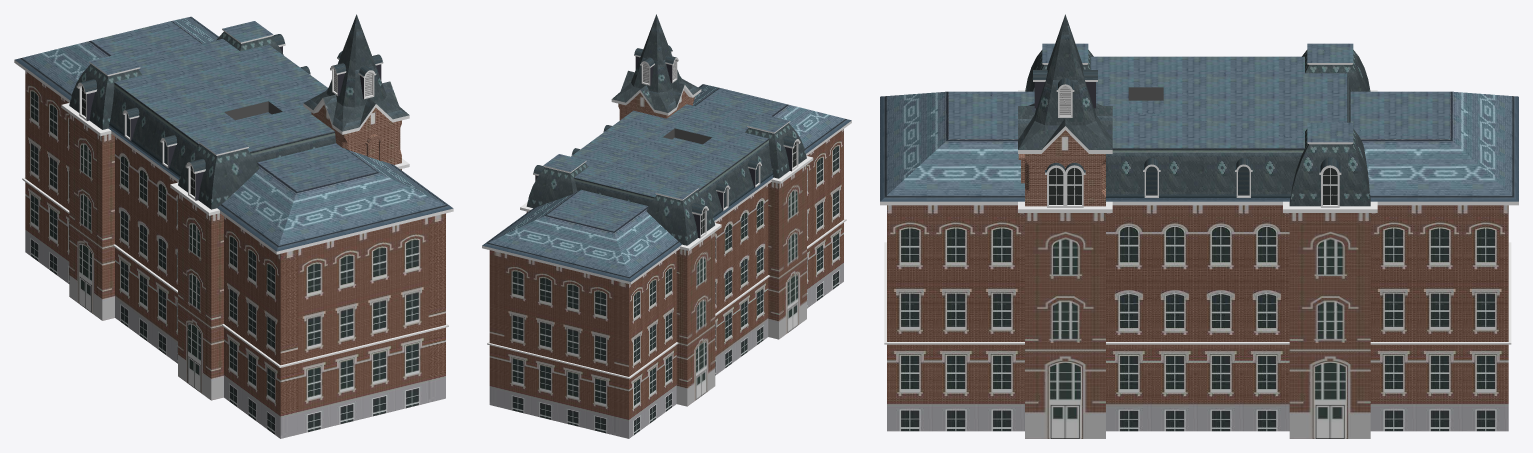
The model's file is UNIV.fbx.
The picture shows the model from 3 angles, left to right: view 1: azimuth 30°, elevation 25°; view 2: azimuth 150°, elevation 25°; view 3: azimuth 270°, elevation 25°; orthographic projection. The views are drawn at different scales.
Visible parts, largest first — view 1: Long_Roof1, Middle_Roof1, Tower_Walls2, Tower_Walls1, Steeple1, Wall_2_12, Wall_2_13, Wall_2_14, Wall_2_19, Cupola1, Wall_2_10, Wall_2_9 (+16 smaller); view 2: Long_Roof1, Middle_Roof1, Tower_Walls2, Tower_Walls1, Wall_2_6, Wall_2_4, Wall_2_5, Wall_2_7, Steeple1, Cupola2, Middle_Wall1, Wall_2_1 (+15 smaller); view 3: Long_Roof1, Middle_Roof1, Tower_Walls4, Tower_Walls3, Wall_2_15, Wall_2_16, Wall_2_18, Middle_Wall6, Middle_Wall7, Wall_2_17, Wall_2_20, Middle_Wall8 (+13 smaller).
Part boxes in pixels (<box>): Long_Roof1: <box>14,16,453,254</box>; Middle_Roof1: <box>109,39,335,177</box>; Tower_Walls2: <box>69,114,114,320</box>; Tower_Walls1: <box>178,193,223,400</box>; Steeple1: <box>303,14,409,169</box>; Wall_2_12: <box>330,233,363,426</box>; Wall_2_13: <box>396,217,428,410</box>; Wall_2_14: <box>363,225,395,418</box>; Wall_2_19: <box>298,241,330,434</box>; Cupola1: <box>170,133,259,215</box>; Wall_2_10: <box>261,244,280,438</box>; Wall_2_9: <box>242,230,261,424</box>; Long_Roof1: <box>482,84,851,284</box>; Middle_Roof1: <box>571,104,773,218</box>; Tower_Walls2: <box>676,232,715,406</box>; Tower_Walls1: <box>768,165,806,339</box>; Wall_2_6: <box>531,260,559,421</box>; Wall_2_4: <box>586,274,614,435</box>; Wall_2_5: <box>559,267,586,428</box>; Wall_2_7: <box>504,253,531,414</box>; Steeple1: <box>611,14,701,120</box>; Cupola2: <box>646,181,721,250</box>; Middle_Wall1: <box>752,184,768,348</box>; Wall_2_1: <box>660,251,676,415</box>; Long_Roof1: <box>880,91,1518,205</box>; Middle_Roof1: <box>1090,56,1350,200</box>; Tower_Walls4: <box>1289,213,1370,438</box>; Tower_Walls3: <box>1025,213,1105,438</box>; Wall_2_15: <box>1416,205,1462,431</box>; Wall_2_16: <box>1462,205,1508,431</box>; Wall_2_18: <box>1370,205,1416,431</box>; Middle_Wall6: <box>1198,205,1243,431</box>; Middle_Wall7: <box>1152,205,1197,431</box>; Wall_2_17: <box>887,205,932,431</box>; Wall_2_20: <box>933,205,978,431</box>; Middle_Wall8: <box>1106,205,1151,431</box>.
Size of the model in its own units: 737 by 1176 by 1670.
